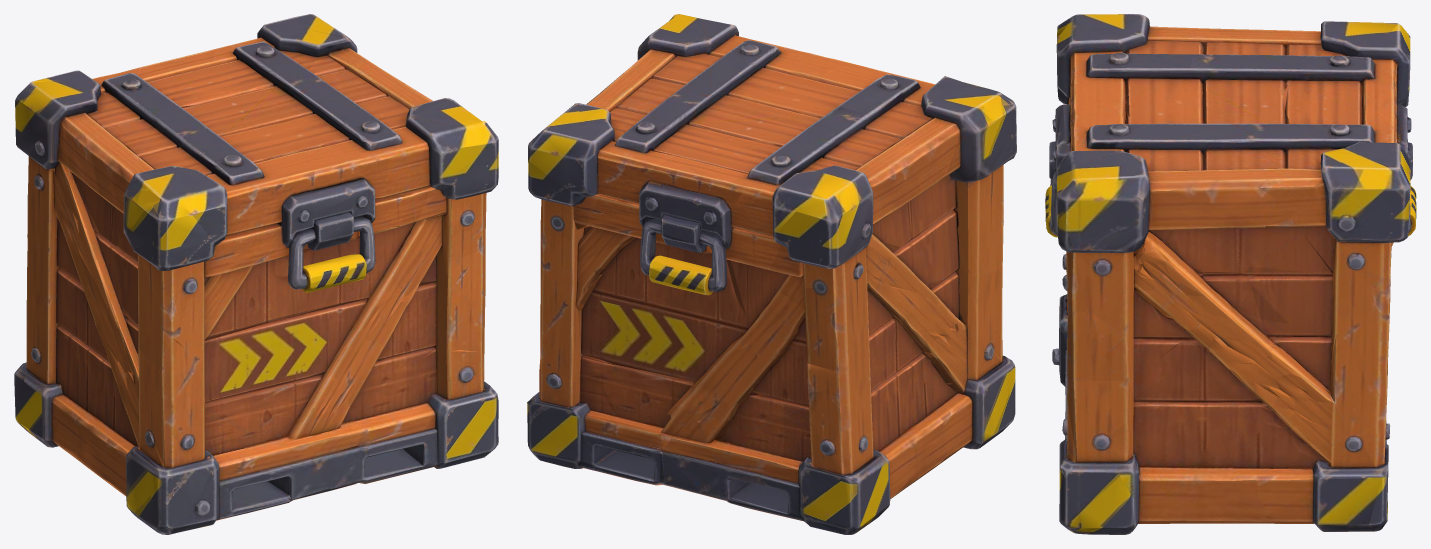
File: wooden_crate.glb
3 renders of one model, left to right at view 1: azimuth 30°, elevation 25°; view 2: azimuth 150°, elevation 25°; view 3: azimuth 270°, elevation 25°, orthographic. The views are drawn at different scales.
Visible parts, largest first — view 1: output_unwrapped; view 2: output_unwrapped; view 3: output_unwrapped.
Part boxes in pixels (x1,y1,x2,y2): output_unwrapped: (14,14,498,534); output_unwrapped: (527,14,1016,534); output_unwrapped: (1045,14,1416,534).
Size of what is drawn, in the model's own units: 1.05 by 1 by 0.9305.
Materials: 1 (1 with a texture image).
